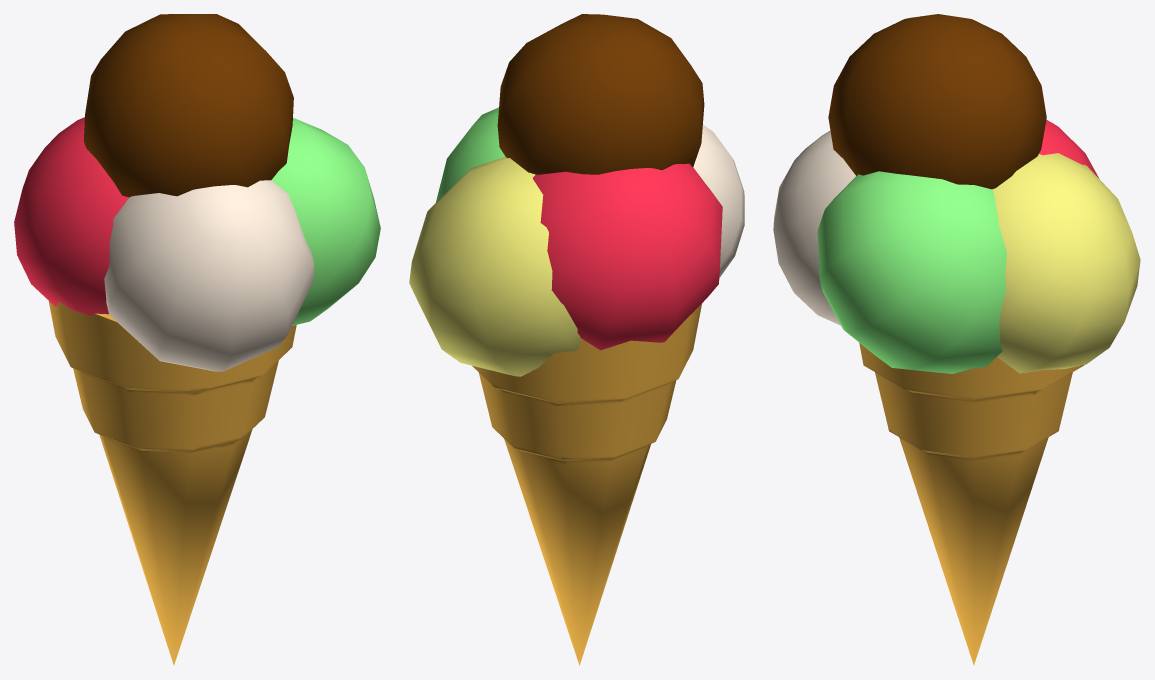
Rendered from Icecream.fbx.
3 views of the same model, side by side, from view 1: azimuth 30°, elevation 25°; view 2: azimuth 150°, elevation 25°; view 3: azimuth 270°, elevation 25° (orthographic). The views are drawn at different scales.
Visible parts, largest first — view 1: Icecream; view 2: Icecream; view 3: Icecream.
Part boxes in pixels (box(x1,y1,x2,y2)): Icecream: box(14, 14, 380, 665); Icecream: box(409, 14, 744, 665); Icecream: box(773, 14, 1140, 665).
Size of the model in its own units: 3.23 by 6.67 by 3.47.
